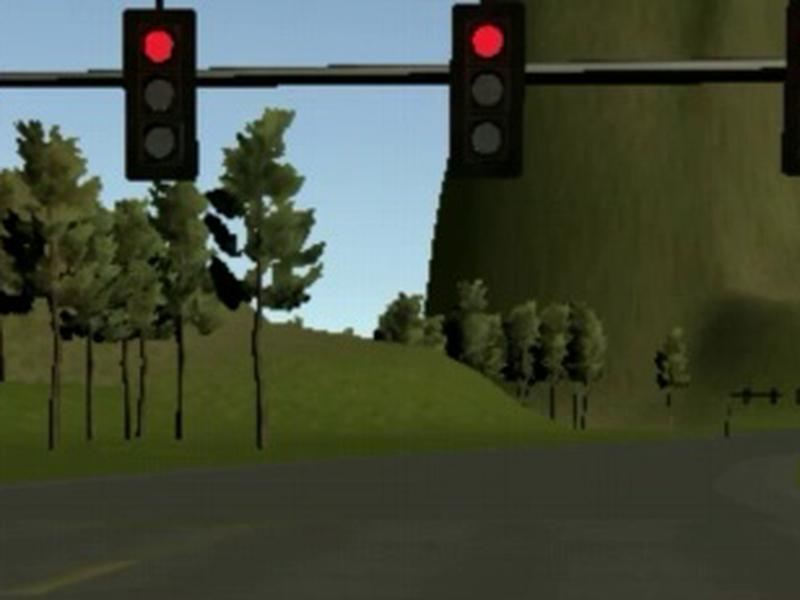Red: (123, 8, 197, 180), (452, 5, 522, 177)
